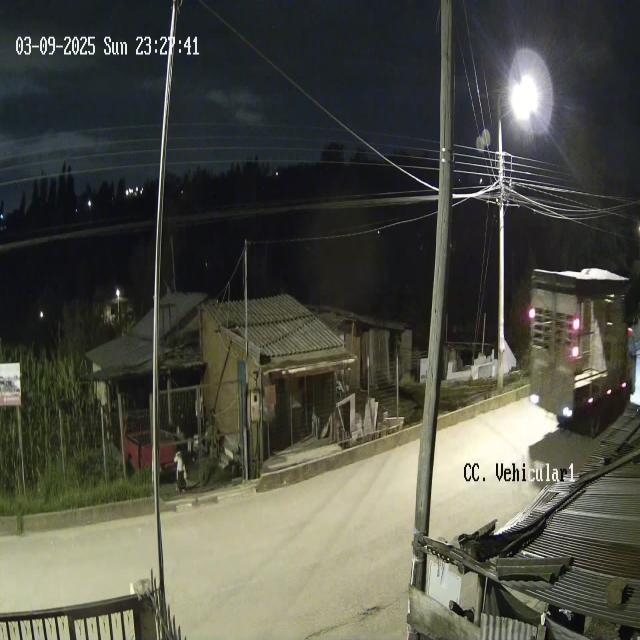TRUCK: (528, 270, 638, 444)
